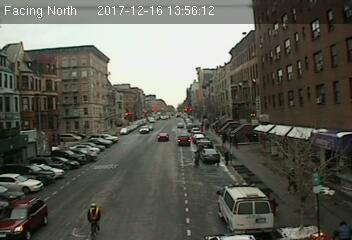bicycle: (86, 202, 102, 239)
car: (2, 195, 49, 237), (199, 147, 220, 163), (178, 135, 191, 145), (157, 132, 168, 142)
pedestrian: (285, 166, 301, 195)
police: (216, 183, 277, 234)
